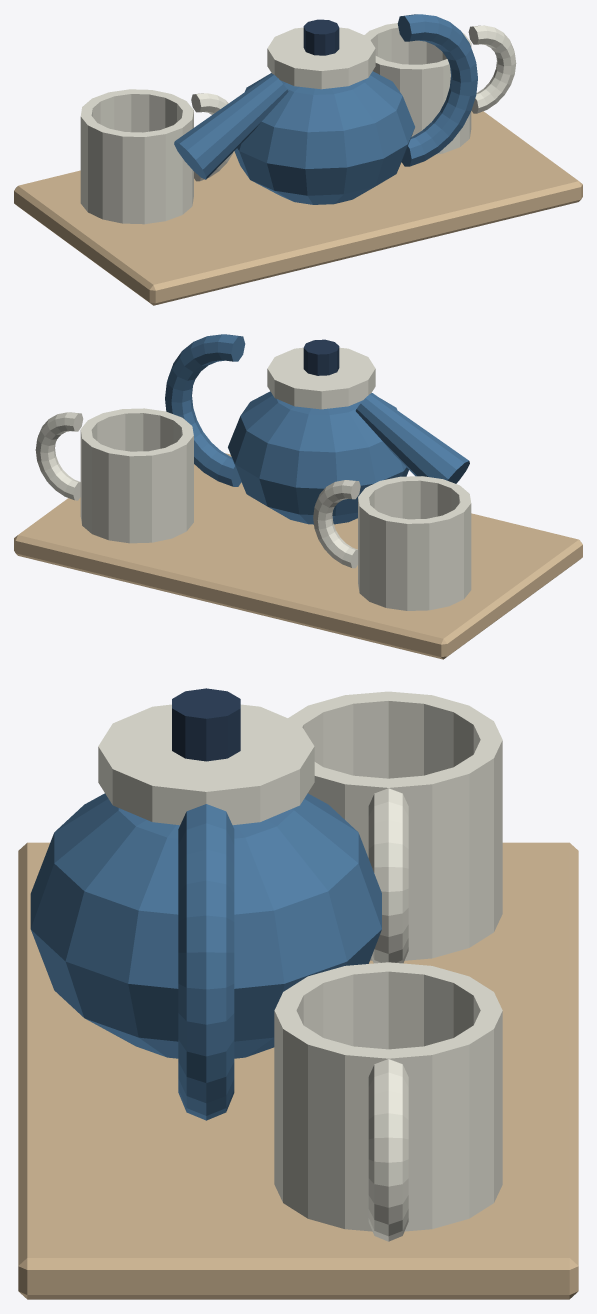
The model's file is ceramic_tea_set.glb.
3 views of the same model, one above another, from view 1: azimuth 30°, elevation 25°; view 2: azimuth 150°, elevation 25°; view 3: azimuth 270°, elevation 25° (orthographic). The views are drawn at different scales.
Parts seen in each view (by area): view 1: tea_tray, tea_cup_hollow_wall (×2), teapot_body, pot_handle, teapot_spout, teapot_lid, cup_handle (×2), tea_cup_base (×2), lid_knob; view 2: tea_tray, tea_cup_hollow_wall (×2), teapot_body, teapot_lid, pot_handle, cup_handle (×2), teapot_spout, tea_cup_base (×2), lid_knob; view 3: tea_tray, tea_cup_hollow_wall (×2), teapot_body, teapot_lid, pot_handle, cup_handle (×2), tea_cup_base (×2), lid_knob.
Part boxes in pixels (<box>): tea_tray: <box>14,111,582,305</box>; tea_cup_hollow_wall (×2): <box>80,23,471,207</box>; teapot_body: <box>234,71,414,204</box>; pot_handle: <box>397,14,477,166</box>; teapot_spout: <box>174,73,288,179</box>; teapot_lid: <box>267,27,375,89</box>; cup_handle (×2): <box>191,25,516,181</box>; tea_cup_base (×2): <box>80,114,471,224</box>; lid_knob: <box>303,19,339,55</box>; tea_tray: <box>14,453,582,659</box>; tea_cup_hollow_wall (×2): <box>80,408,471,594</box>; teapot_body: <box>228,391,408,524</box>; teapot_lid: <box>267,347,375,409</box>; pot_handle: <box>165,334,245,486</box>; cup_handle (×2): <box>35,412,360,568</box>; teapot_spout: <box>355,393,469,483</box>; tea_cup_base (×2): <box>80,501,471,610</box>; lid_knob: <box>303,339,339,375</box>; tea_tray: <box>18,842,578,1299</box>; tea_cup_hollow_wall (×2): <box>274,691,502,1198</box>; teapot_body: <box>30,793,381,1058</box>; teapot_lid: <box>98,704,314,825</box>; pot_handle: <box>178,804,234,1120</box>; cup_handle (×2): <box>368,788,408,1241</box>; tea_cup_base (×2): <box>274,882,502,1231</box>; lid_knob: <box>172,688,240,761</box>.
Size of the model in its own units: 0.526 by 0.214 by 0.28.
